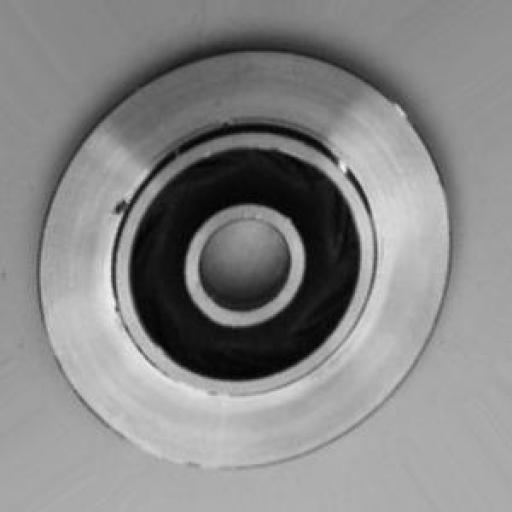defect: (82, 165, 150, 247)
